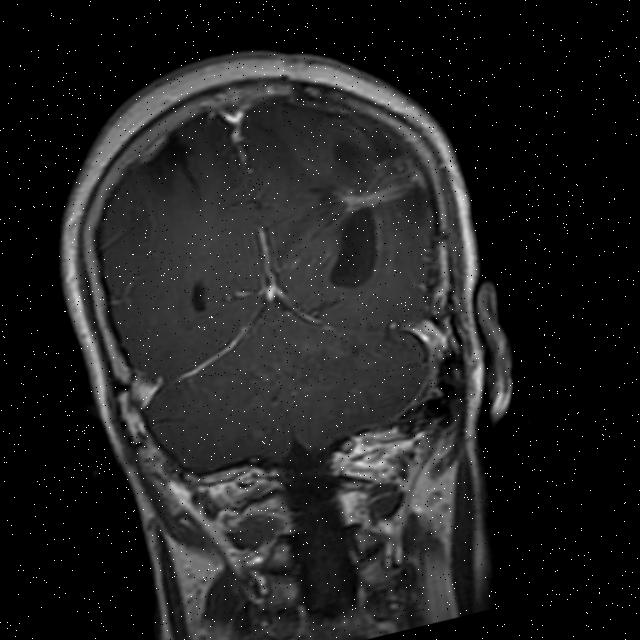Glioma: (313, 143, 435, 228)
